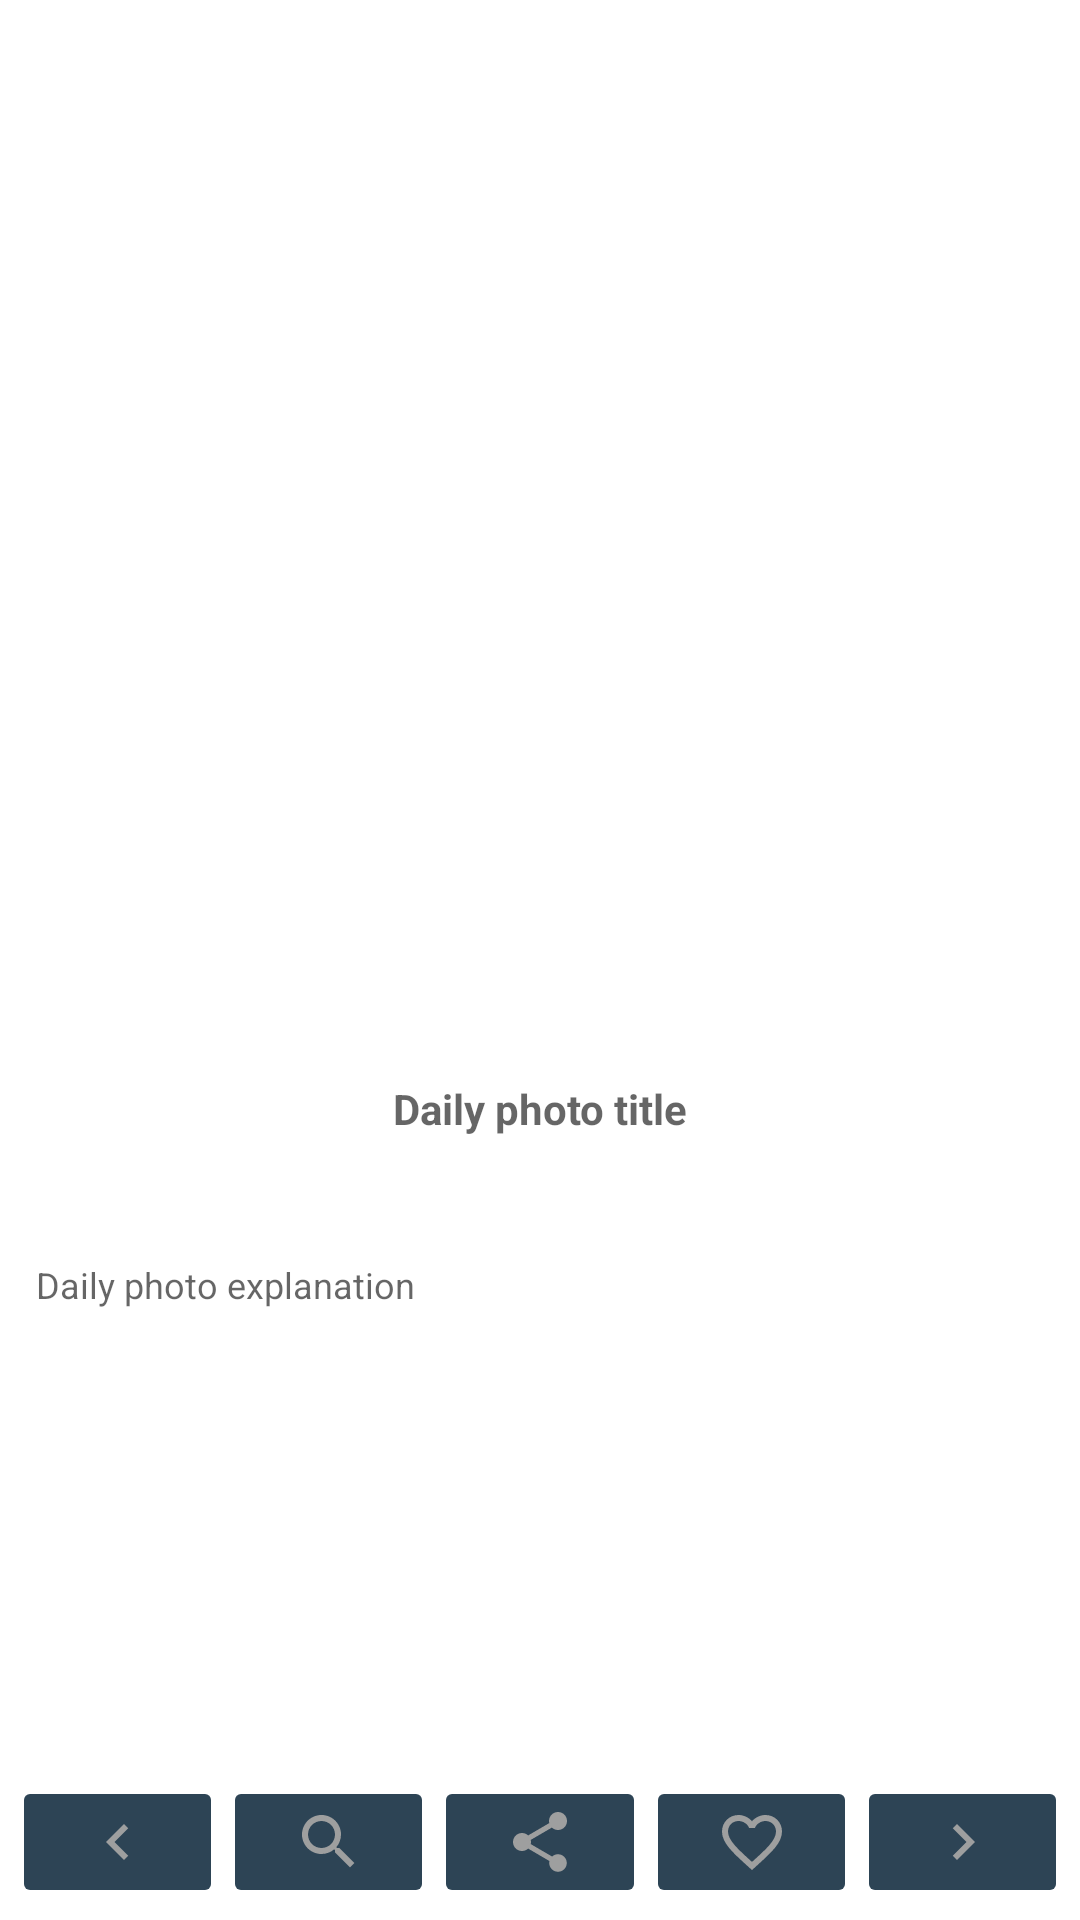

Where icons sit on this 1080w x 1920h app screen, as (left=x1, top=y1, right=x2, bottom=y2):
heart: (left=658, top=1794, right=845, bottom=1890)
left arrow: (left=24, top=1794, right=211, bottom=1890)
right arrow: (left=869, top=1794, right=1056, bottom=1890)
search: (left=235, top=1794, right=422, bottom=1890)
share: (left=446, top=1794, right=634, bottom=1890)
